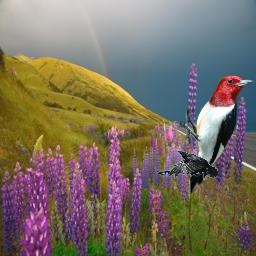Crow: (155, 150, 218, 181)
Woodpecker: (177, 75, 255, 199)
